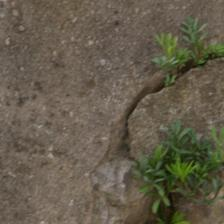Crack: (52, 28, 170, 138)
